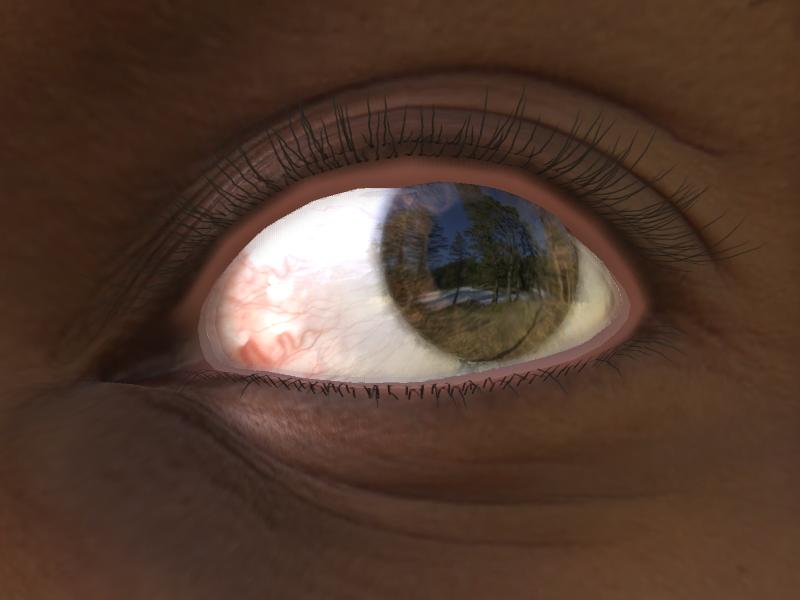eye: (381, 186, 579, 359)
